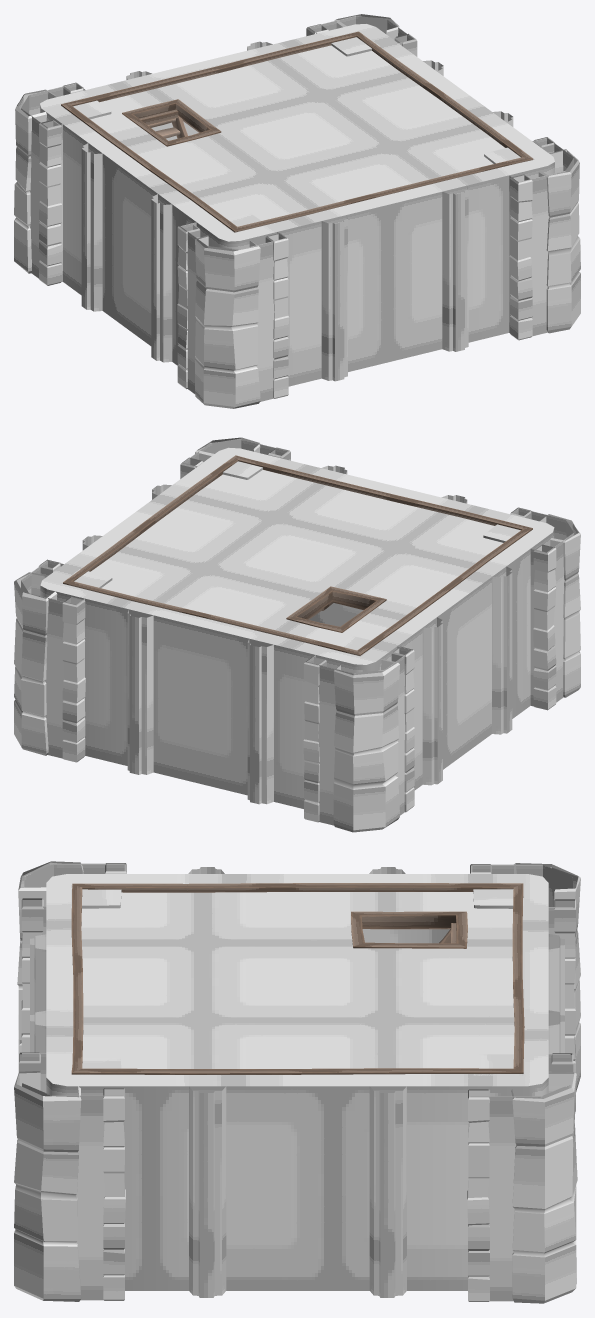
File: SM_TowerF_Mid_01.fbx
3 views of the same model, one above another, from view 1: azimuth 30°, elevation 25°; view 2: azimuth 150°, elevation 25°; view 3: azimuth 270°, elevation 25° (orthographic). The views are drawn at different scales.
Visible parts, largest first — view 1: SM_TowerF_Mid_01_LOD0; view 2: SM_TowerF_Mid_01_LOD0; view 3: SM_TowerF_Mid_01_LOD0.
Part boxes in pixels (<box>): SM_TowerF_Mid_01_LOD0: <box>14,14,580,408</box>; SM_TowerF_Mid_01_LOD0: <box>14,437,580,832</box>; SM_TowerF_Mid_01_LOD0: <box>14,861,580,1303</box>.
Size of the model in its own units: 1129 by 1129 by 467.
